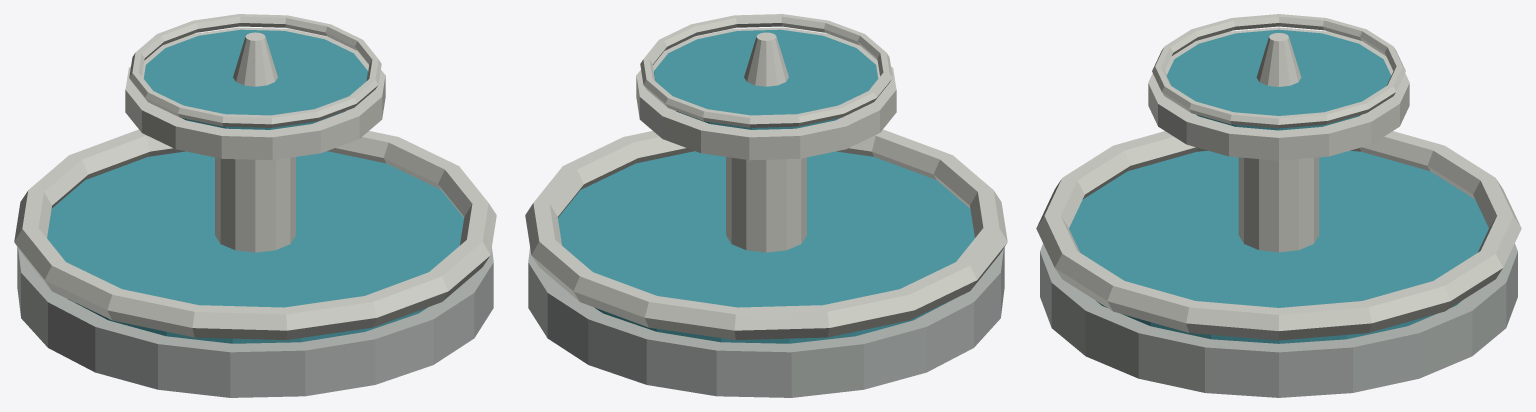
File: Fountain_Public.glb
The picture shows the model from 3 angles, left to right: view 1: azimuth 30°, elevation 25°; view 2: azimuth 150°, elevation 25°; view 3: azimuth 270°, elevation 25°; orthographic projection.
Visible parts, largest first — view 1: Fountain_Public; view 2: Fountain_Public; view 3: Fountain_Public.
Part boxes in pixels (<box>): Fountain_Public: <box>14,14,496,397</box>; Fountain_Public: <box>525,14,1007,397</box>; Fountain_Public: <box>1036,14,1521,397</box>.
Size of the model in its own units: 1.93 by 1.14 by 1.93.
